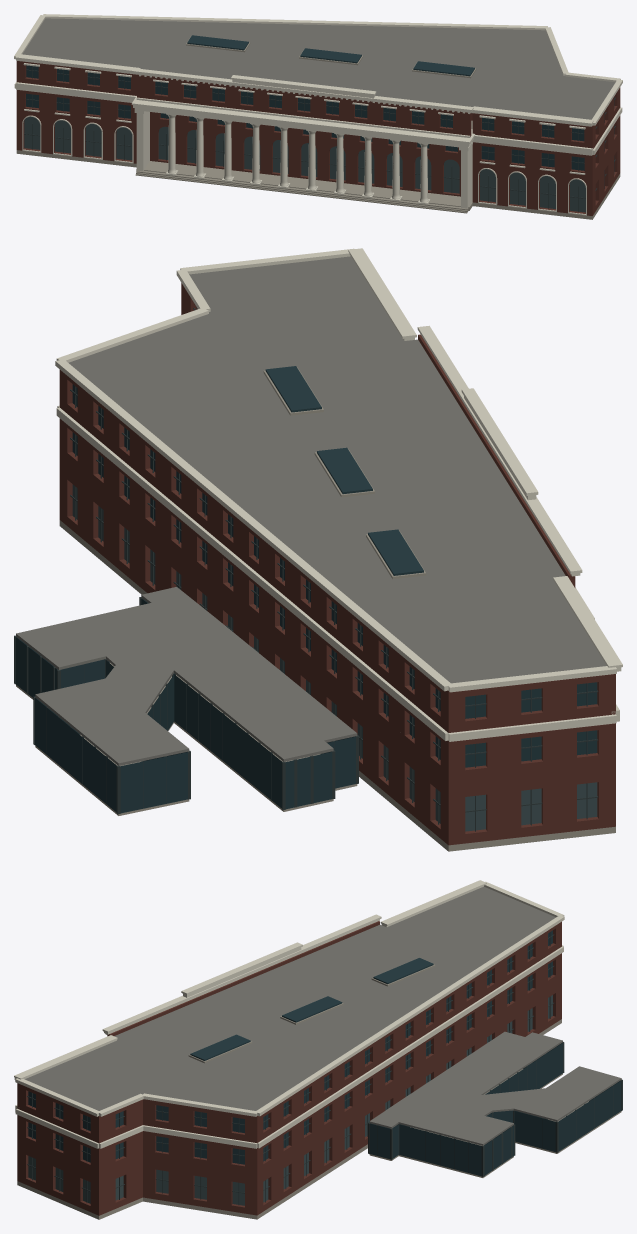
File: waterfront-station-vancouver-near.glb
3 views of the same model, one above another, from view 1: azimuth 30°, elevation 25°; view 2: azimuth 150°, elevation 25°; view 3: azimuth 270°, elevation 25° (orthographic). The views are drawn at different scales.
Visible parts, largest first — view 1: waterfront-station-vancouver-0-roof, waterfront-station-vancouver-0-brick, waterfront-station-vancouver-0-stone, waterfront-station-vancouver-0-glow, waterfront-station-vancouver-0-glass, waterfront-station-vancouver-0-base, waterfront-station-vancouver-0-metal; view 2: waterfront-station-vancouver-0-roof, waterfront-station-vancouver-0-brick, waterfront-station-vancouver-0-glass, waterfront-station-vancouver-0-stone, waterfront-station-vancouver-0-metal, waterfront-station-vancouver-0-base, waterfront-station-vancouver-0-glow; view 3: waterfront-station-vancouver-0-roof, waterfront-station-vancouver-0-brick, waterfront-station-vancouver-0-glass, waterfront-station-vancouver-0-stone, waterfront-station-vancouver-0-metal, waterfront-station-vancouver-0-base, waterfront-station-vancouver-0-glow.
Boxes of the visible parts, <box> form: waterfront-station-vancouver-0-roof: <box>22,18,615,119</box>; waterfront-station-vancouver-0-brick: <box>16,61,620,215</box>; waterfront-station-vancouver-0-stone: <box>14,14,622,215</box>; waterfront-station-vancouver-0-glow: <box>24,116,585,212</box>; waterfront-station-vancouver-0-glass: <box>26,35,584,170</box>; waterfront-station-vancouver-0-base: <box>16,36,620,219</box>; waterfront-station-vancouver-0-metal: <box>24,66,615,212</box>; waterfront-station-vancouver-0-roof: <box>16,256,606,765</box>; waterfront-station-vancouver-0-brick: <box>59,283,615,845</box>; waterfront-station-vancouver-0-glass: <box>15,366,597,813</box>; waterfront-station-vancouver-0-stone: <box>55,248,622,741</box>; waterfront-station-vancouver-0-metal: <box>14,307,598,831</box>; waterfront-station-vancouver-0-base: <box>16,367,615,851</box>; waterfront-station-vancouver-0-glow: <box>72,484,597,831</box>; waterfront-station-vancouver-0-roof: <box>25,886,621,1145</box>; waterfront-station-vancouver-0-brick: <box>17,921,561,1215</box>; waterfront-station-vancouver-0-glass: <box>28,930,621,1176</box>; waterfront-station-vancouver-0-stone: <box>14,880,564,1148</box>; waterfront-station-vancouver-0-metal: <box>27,932,622,1205</box>; waterfront-station-vancouver-0-base: <box>17,964,621,1219</box>; waterfront-station-vancouver-0-glow: <box>28,995,552,1205</box>.
Bounding box in the file's own units: 98.28 × 23 × 109.
